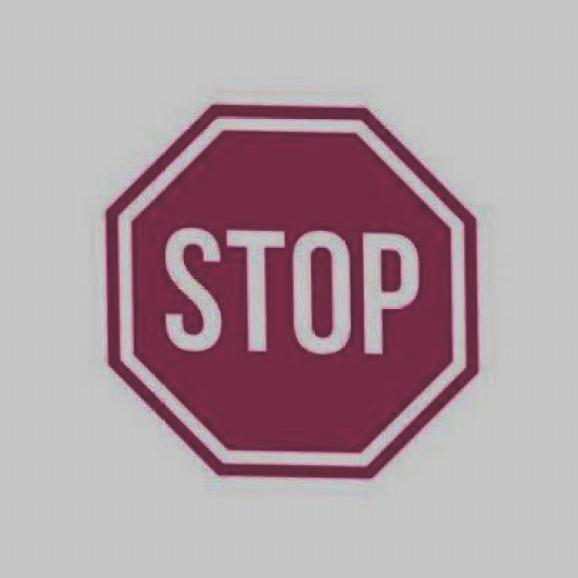stop_sign: (77, 67, 512, 509)
